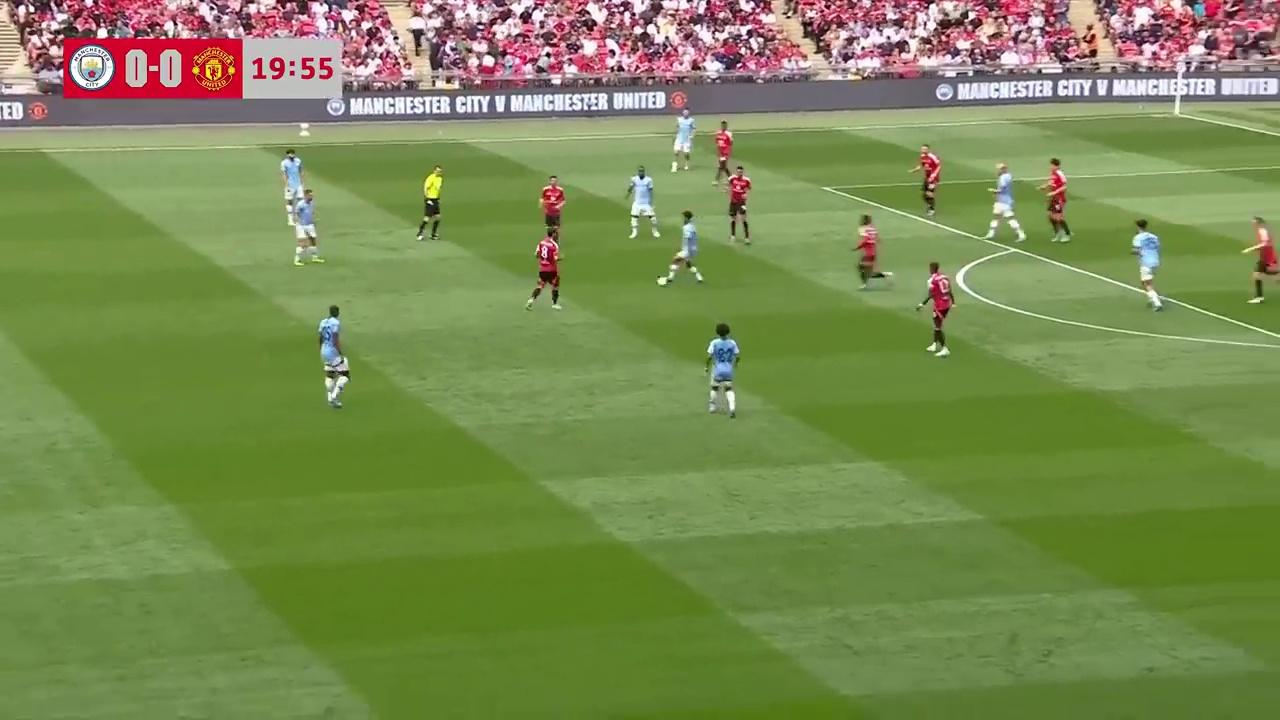ball: (656, 272, 670, 290)
player: (657, 209, 705, 287), (916, 260, 955, 356), (703, 321, 740, 417), (1242, 216, 1280, 304), (985, 163, 1026, 243), (318, 305, 349, 409), (852, 213, 893, 290), (524, 232, 563, 312), (1130, 219, 1162, 312), (1037, 157, 1071, 243), (625, 166, 660, 239), (291, 187, 322, 265), (910, 144, 941, 217), (724, 165, 752, 245), (279, 148, 304, 220), (539, 174, 565, 239), (672, 108, 695, 172), (713, 121, 733, 183)
referee: (416, 165, 443, 241)
